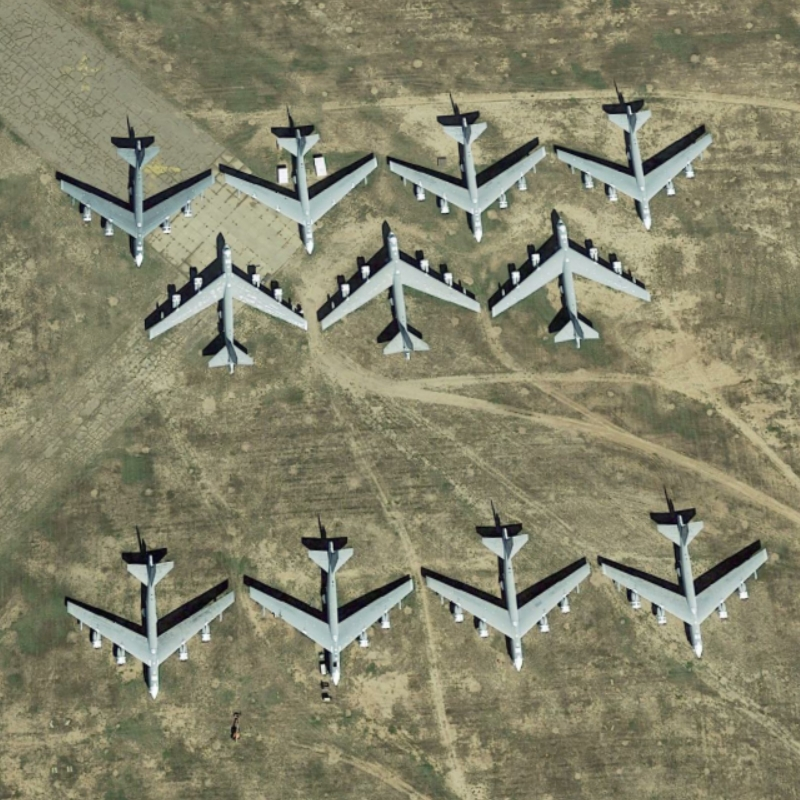A8: (60, 539, 243, 703), (593, 497, 776, 661), (419, 516, 599, 674), (247, 528, 417, 694), (489, 205, 665, 354), (553, 94, 725, 235), (49, 133, 219, 272), (216, 119, 381, 260), (318, 224, 487, 361), (384, 104, 548, 244), (142, 238, 312, 370)
